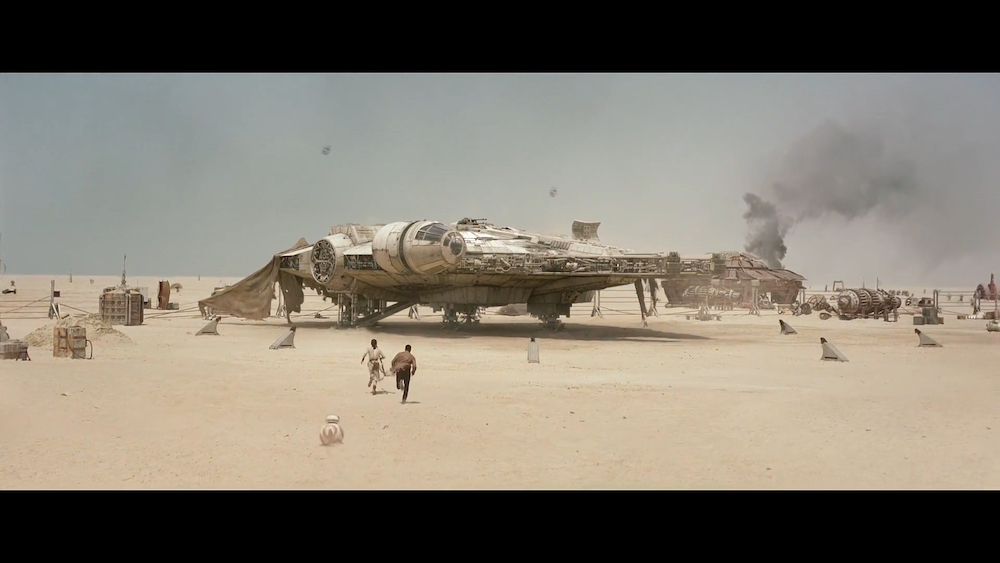Millennium Falcon: (275, 221, 727, 306)
Tie Fighter: (322, 146, 332, 156), (549, 188, 557, 198)
